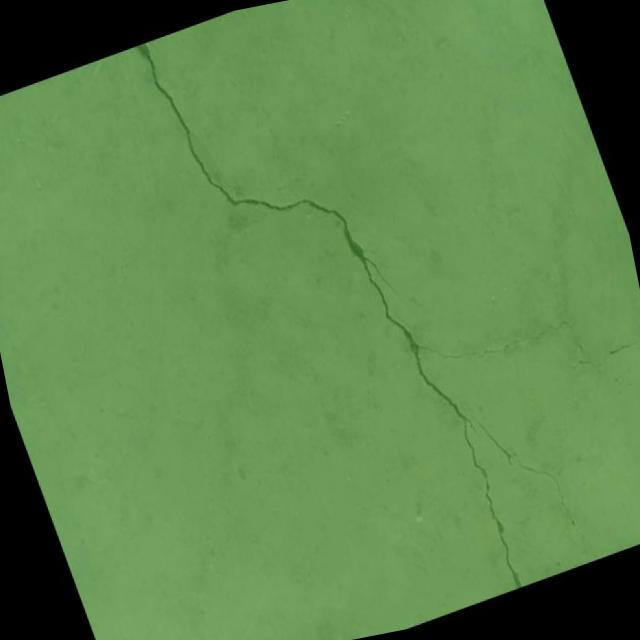crack: (131, 0, 640, 640), (565, 327, 640, 382)
